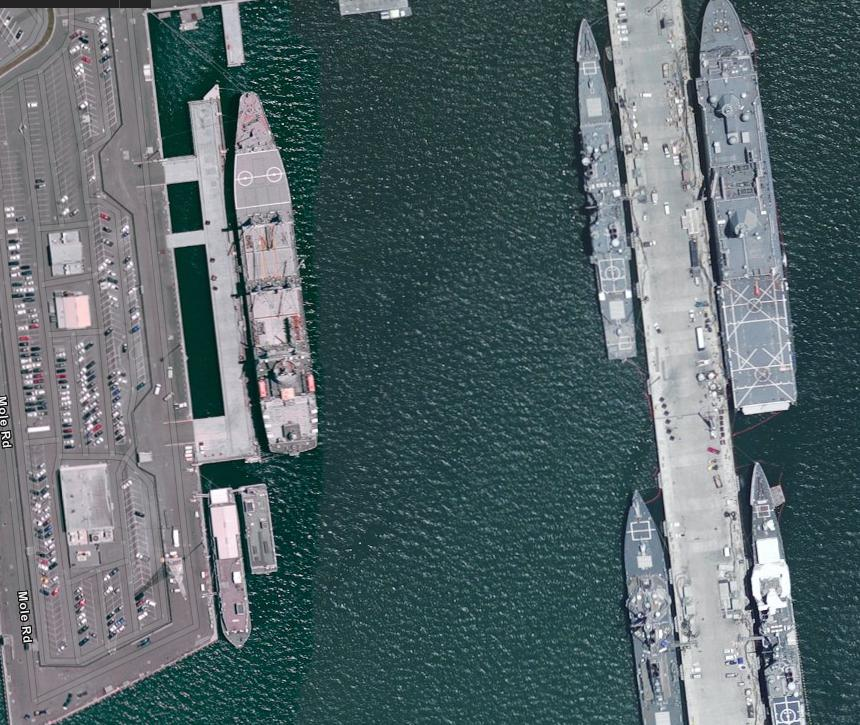cruiser: (570, 10, 643, 371)
supply: (226, 82, 340, 465)
